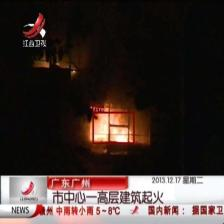fire: (92, 112, 134, 144)
